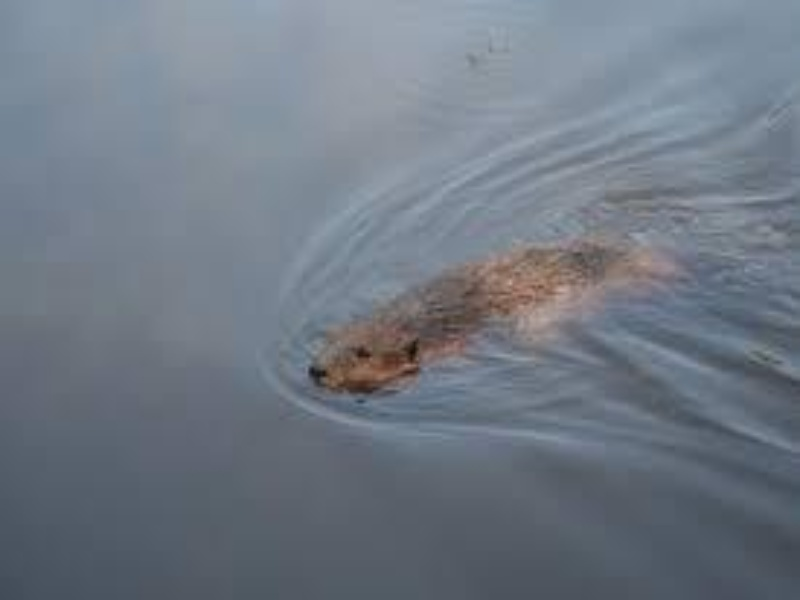minkish: (305, 232, 684, 396)
